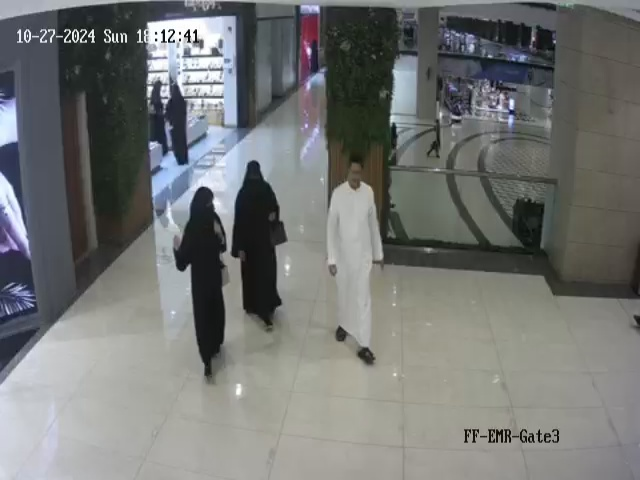female: (172, 186, 229, 384), (231, 160, 284, 333), (165, 80, 189, 166), (149, 78, 169, 156), (389, 114, 404, 163)
male: (326, 161, 385, 366), (427, 109, 452, 162)
other: (0, 171, 32, 263)
